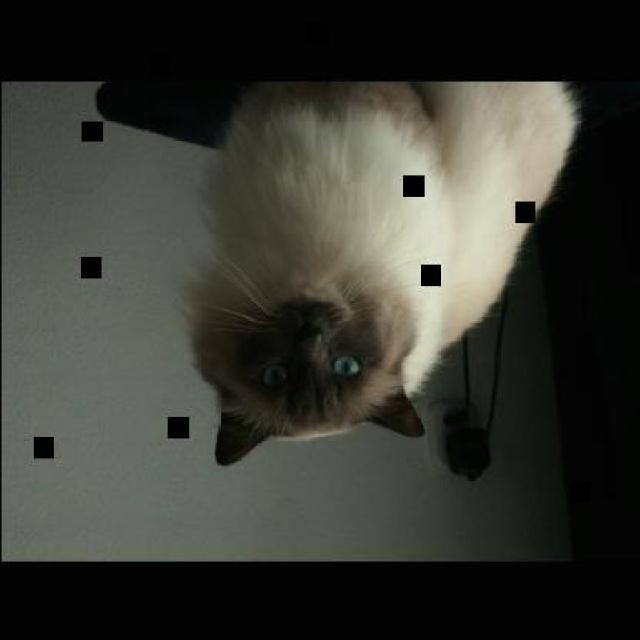unauthorized: (180, 79, 582, 468)
